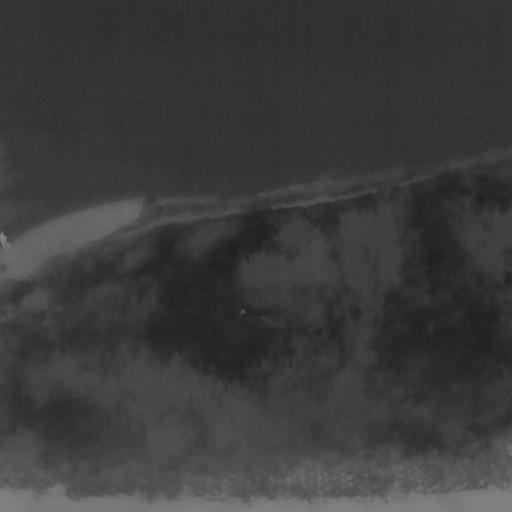uav: (238, 307, 247, 316)
